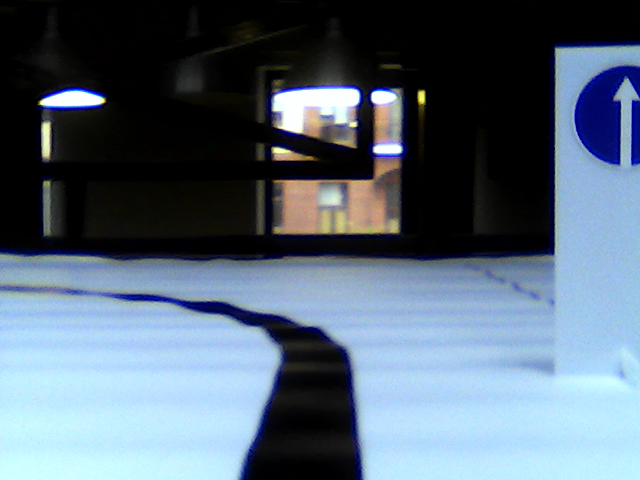forw: (572, 60, 640, 174)
